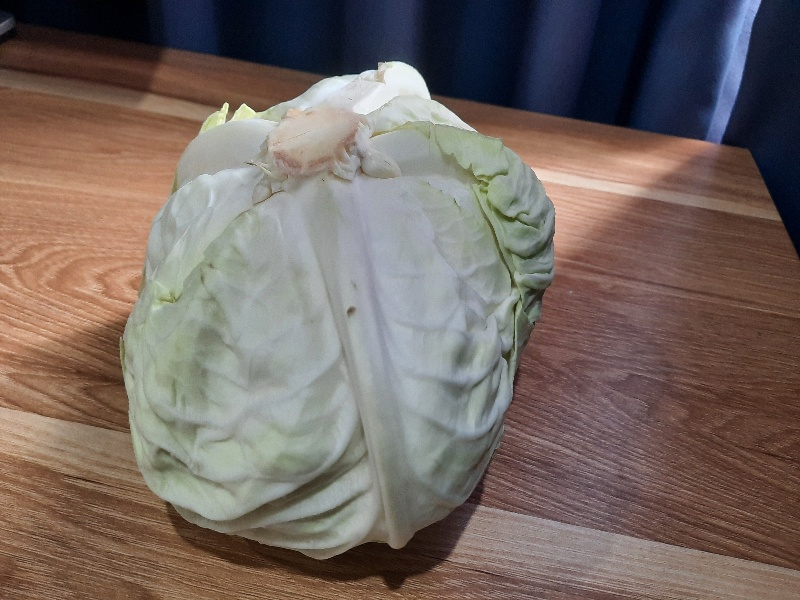vege: (121, 57, 559, 570)
